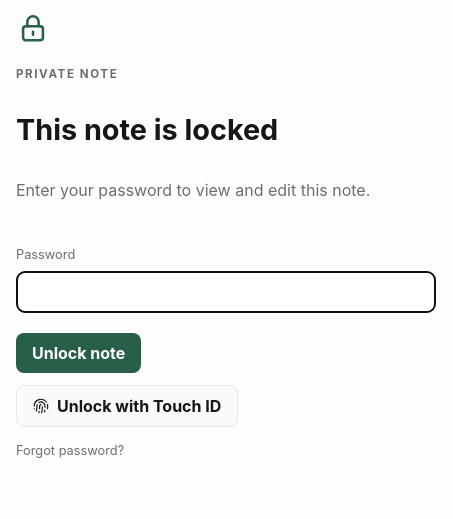
Test: PrivateNoteGate › explains a Touch ID failure and keeps the password route
Click the button "Unlock with Touch ID" at (127, 406), box left=16, top=385, right=238, bottom=427
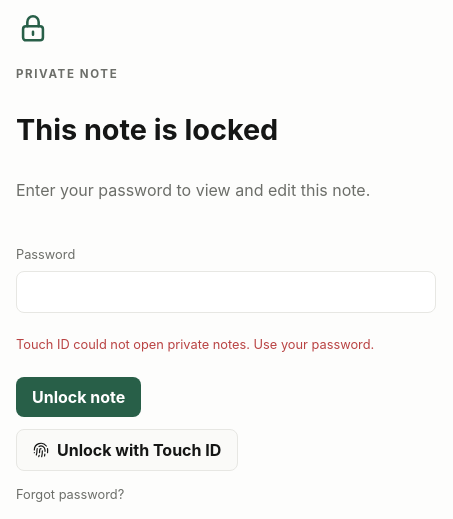
Expected: the password field labelled "Password" is shown, left=16, top=271, right=436, bottom=313
Result: the message reads "Touch ID could not open private notes. Use your password." at left=16, top=337, right=374, bottom=352
